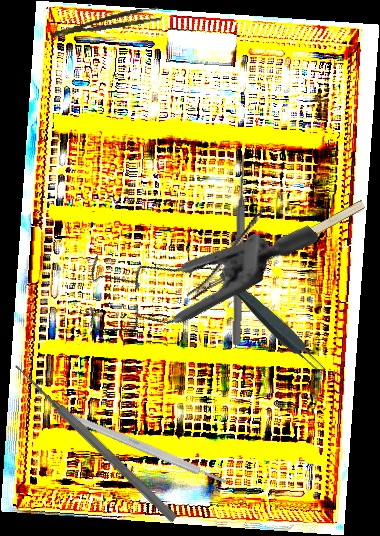Needle Holder: (168, 170, 368, 301)
Pusher: (10, 359, 180, 525), (230, 152, 250, 346)
Scalpel Handle: (64, 410, 230, 488)
Speculum: (58, 134, 321, 402)
Tissue Forceps: (214, 266, 331, 380), (50, 5, 161, 39)
